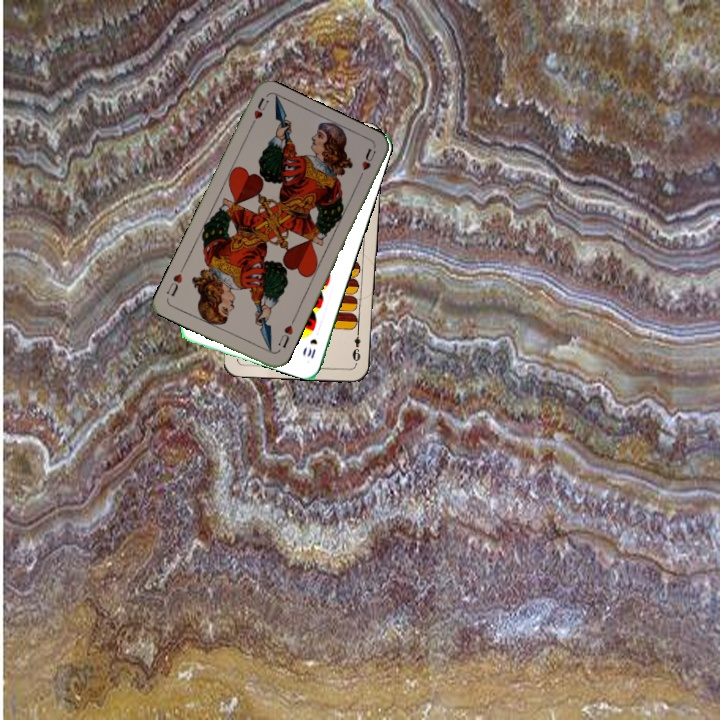E9: (348, 326, 363, 366)
HU: (245, 94, 271, 131), (274, 316, 297, 350)
S10: (303, 335, 320, 361)
